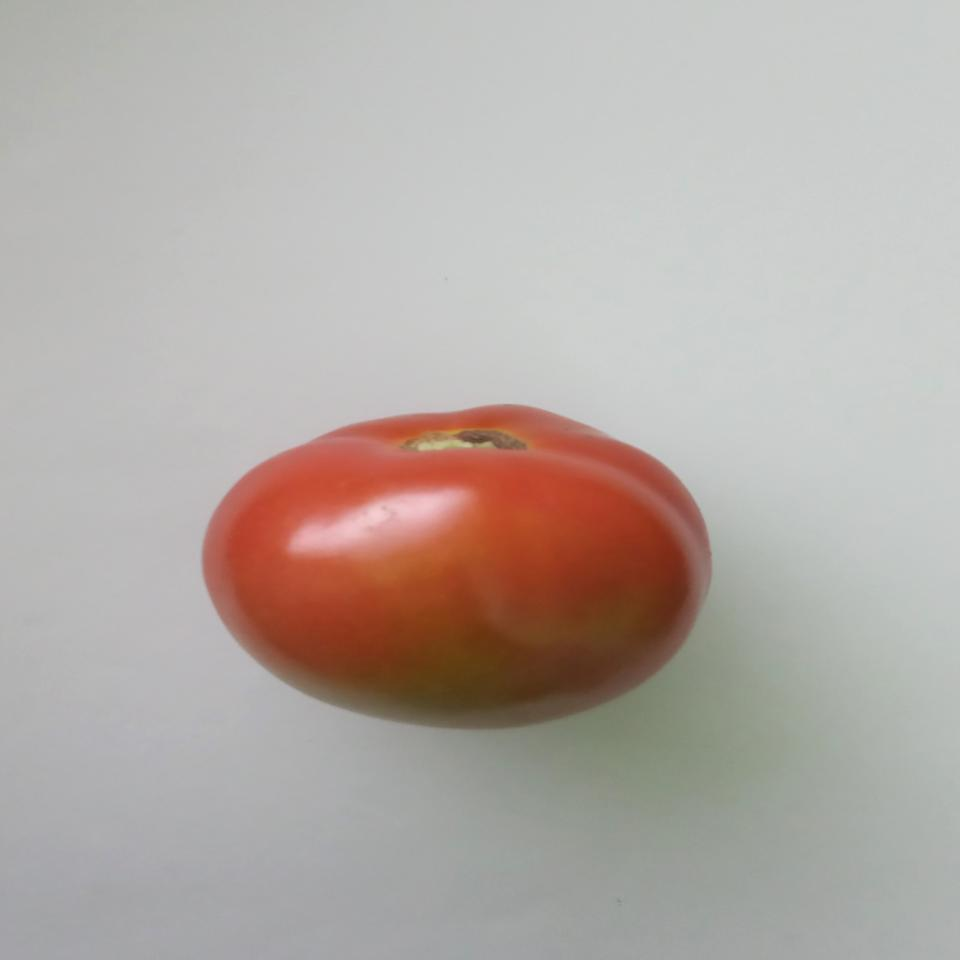Healthy: (200, 403, 722, 738)
